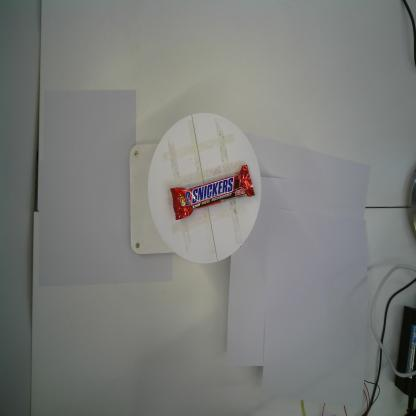Chocolate: (169, 162, 256, 222)
